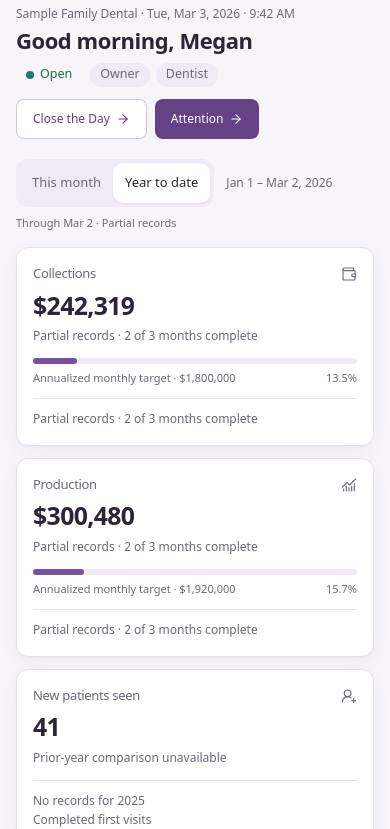
Scenario: performance and goals near the top › the cancellation trend and links follow the selected period and completed-day cutoff
What coordinates should you click on to do the following:
click the button "This month"
I would click on:
 (66, 182)
Its box is [20,162,113,202].
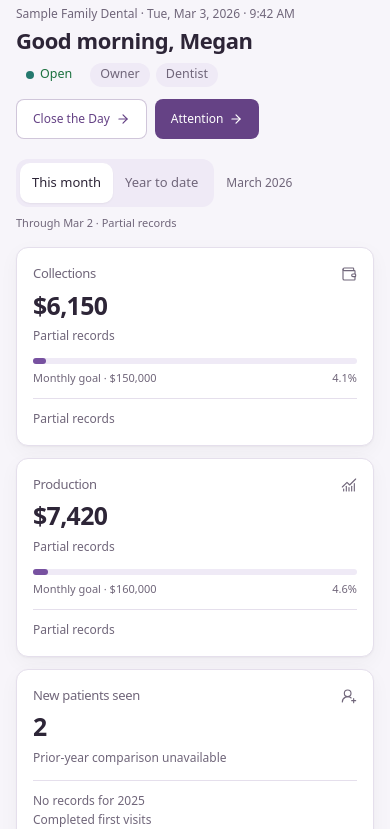
What coordinates should you click on to do the following:
click the button "Year to date"
I would click on:
 (162, 182)
Its box is [113,162,210,202].
(page scrolled)
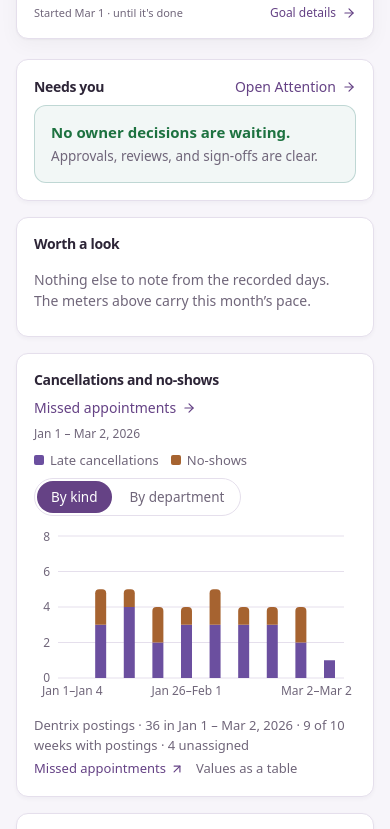
Now the link "Missed appointments" below "Cancellations and no-shows" has attribute href="/management/missed-appointments?start=2026-01-01&end=2026-03-02", box [34,397,196,418]
